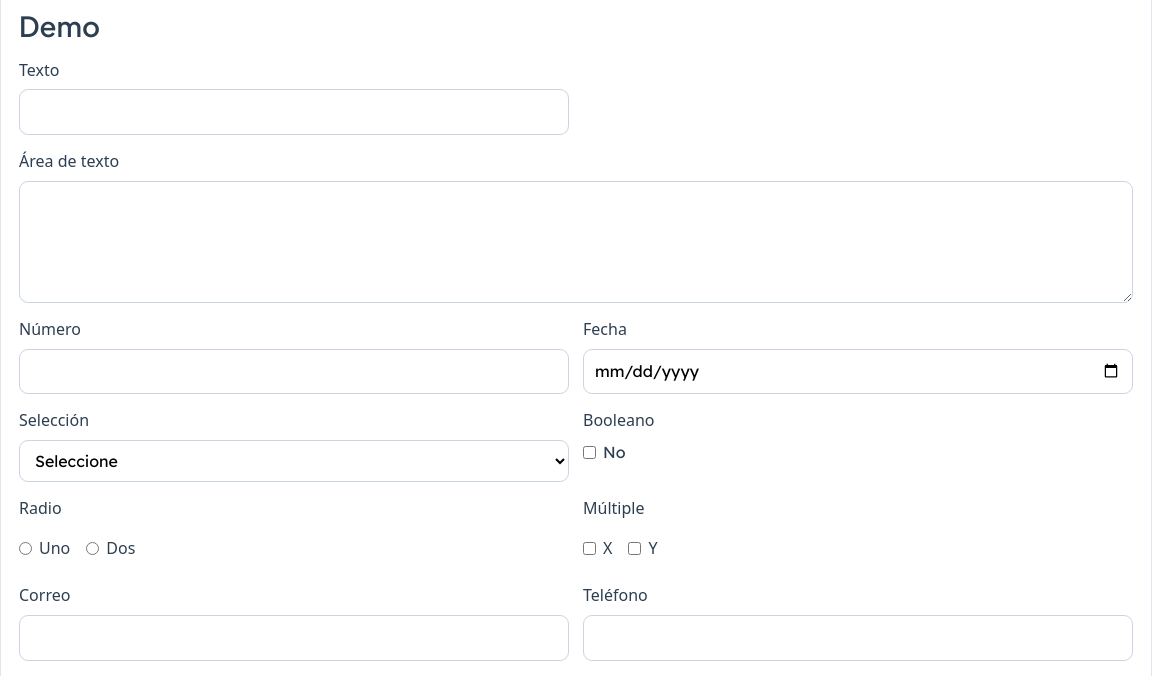
renders every V2 field type and applies show/editable conditions
The width and height of the screenshot is (1152, 676).
Check: the field labelled "Texto" is shown, box [19,89,569,135]
Check: the text box labelled "Área de texto" is shown, box [19,181,1133,303]
Click the checkbox labelled "Booleano" at (590,453), box [583,446,596,459]
(page scrolled)
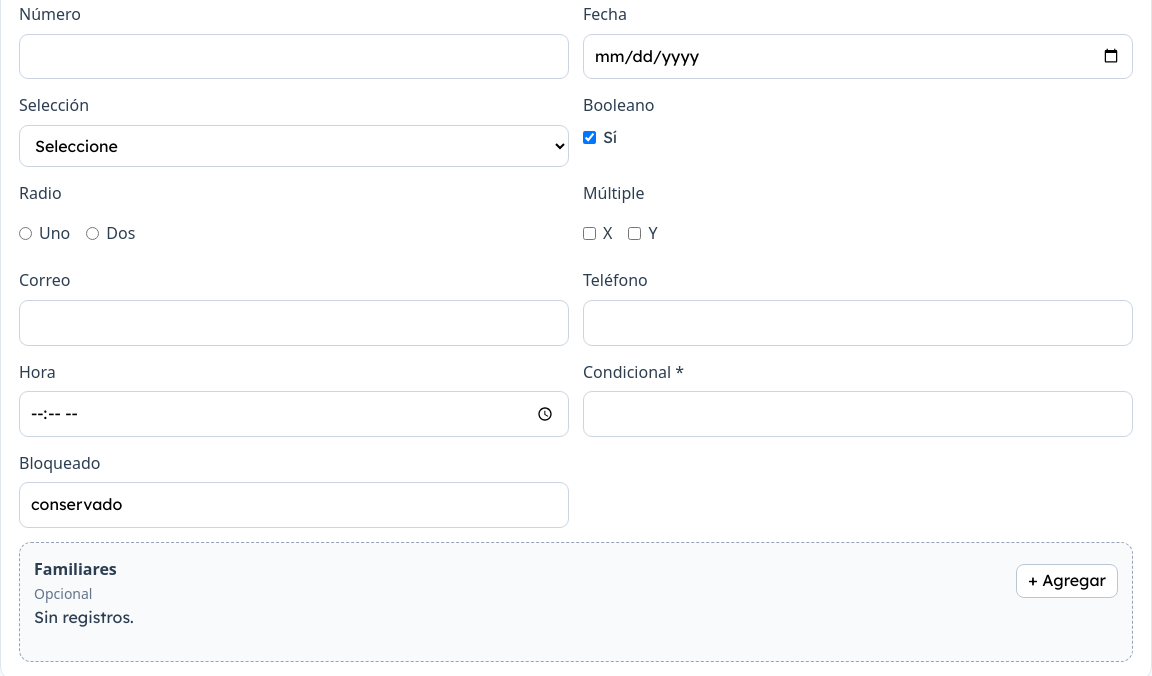
Check: the field labelled "Bloqueado" is enabled, box [19,482,569,528]
Click the button "+ Agregar" at (1067,581), box [1016,564,1118,598]
(page scrolled)
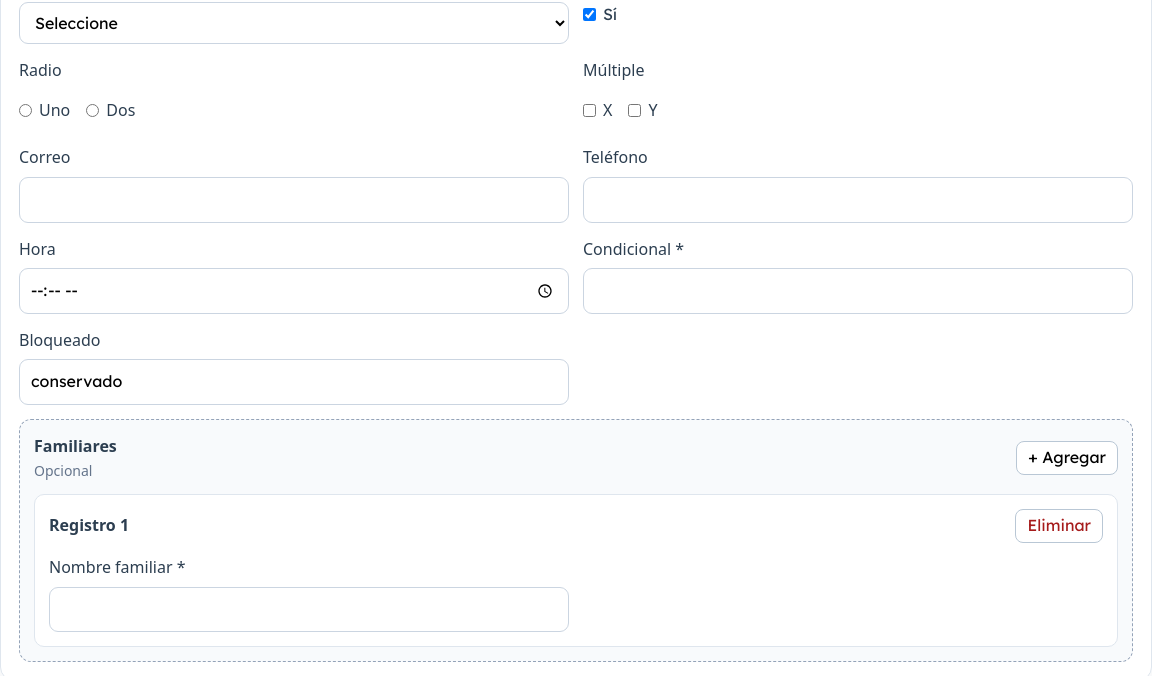
Check: the field labelled "Nombre familiar *" is shown
Type "Juan" into the field labelled "Nombre familiar *" at (309,609), box [49,586,569,632]
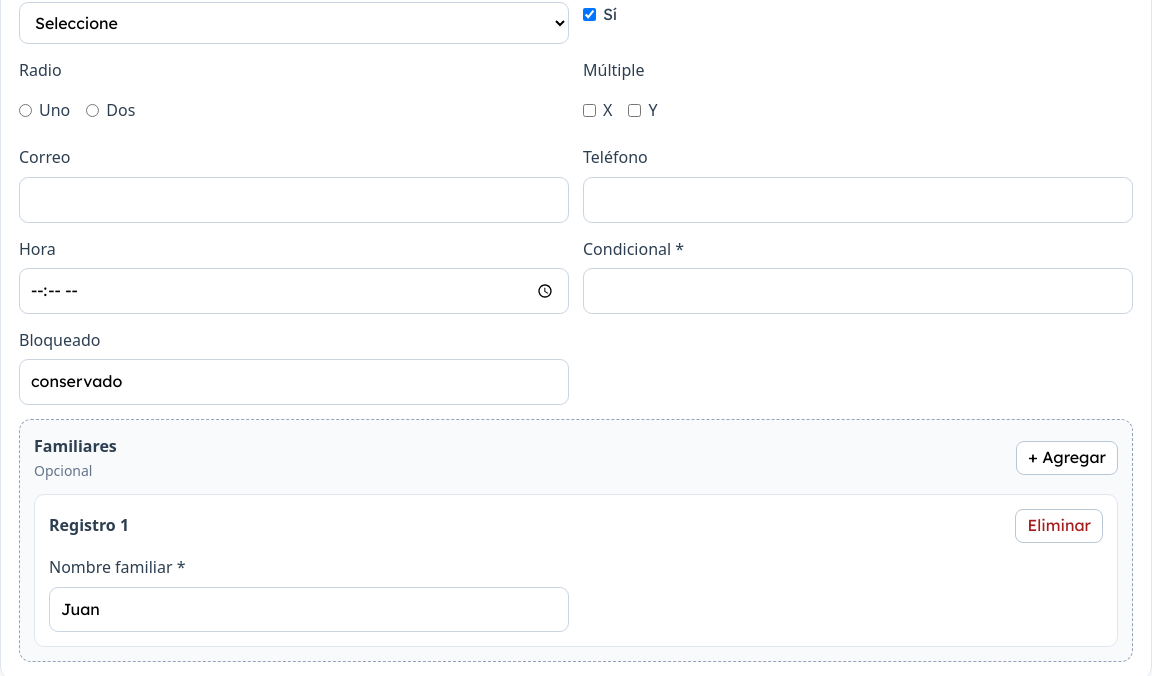
Click the button "Eliminar" at (1059,526), box [1015,509,1103,543]
(page scrolled)
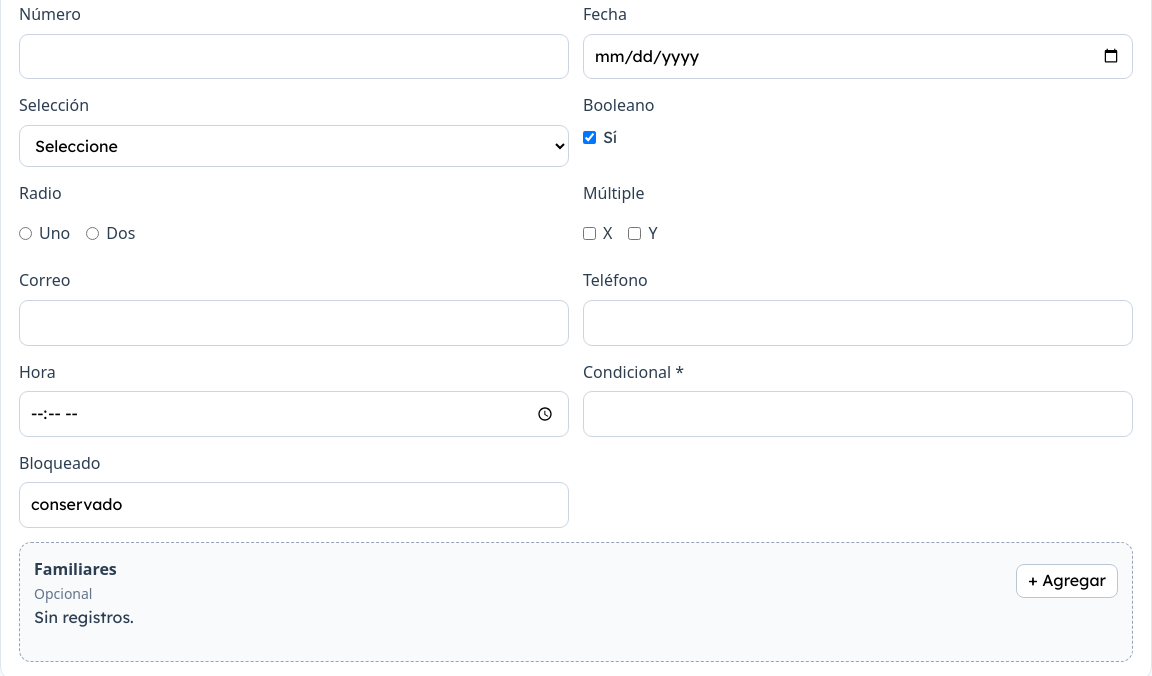
Check: the label labelled "Nombre familiar" is gone
